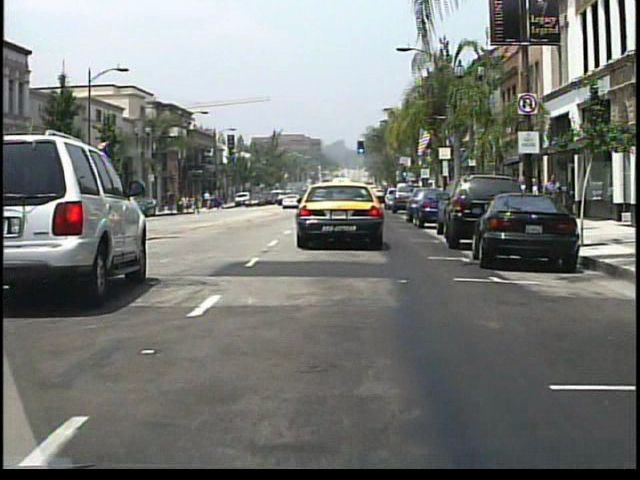person: (542, 169, 563, 226), (214, 193, 221, 211)
